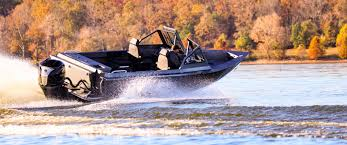boat: (38, 26, 249, 106)
